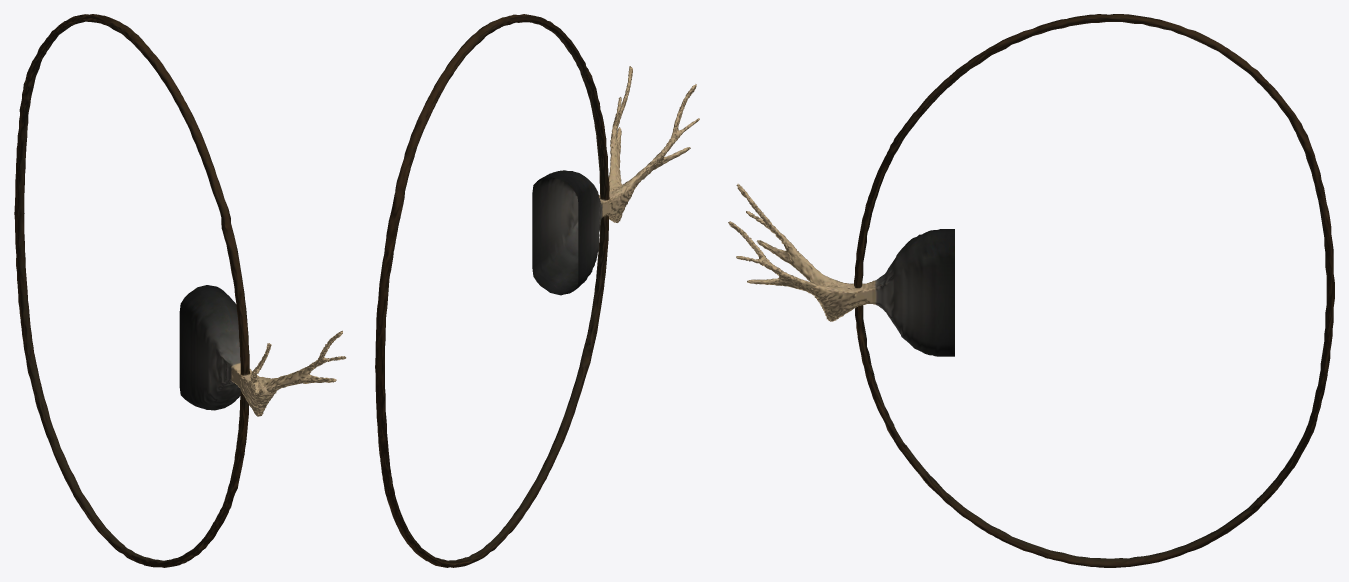
3 renders of one model, left to right at view 1: azimuth 30°, elevation 25°; view 2: azimuth 150°, elevation 25°; view 3: azimuth 270°, elevation 25°, orthographic. The views are drawn at different scales.
Visible parts, largest first — view 1: tripo_node_c3f19e0c-899c-4e7f-a510-216f2d6f4d76; view 2: tripo_node_c3f19e0c-899c-4e7f-a510-216f2d6f4d76; view 3: tripo_node_c3f19e0c-899c-4e7f-a510-216f2d6f4d76.
Boxes of the visible parts, x1,y1,x2,y2 form: tripo_node_c3f19e0c-899c-4e7f-a510-216f2d6f4d76: [14, 14, 346, 567]; tripo_node_c3f19e0c-899c-4e7f-a510-216f2d6f4d76: [375, 14, 699, 567]; tripo_node_c3f19e0c-899c-4e7f-a510-216f2d6f4d76: [728, 14, 1334, 567].
Bounding box in the file's own units: 0.0681 × 0.4 × 0.4.
1 material, 1 textured.
